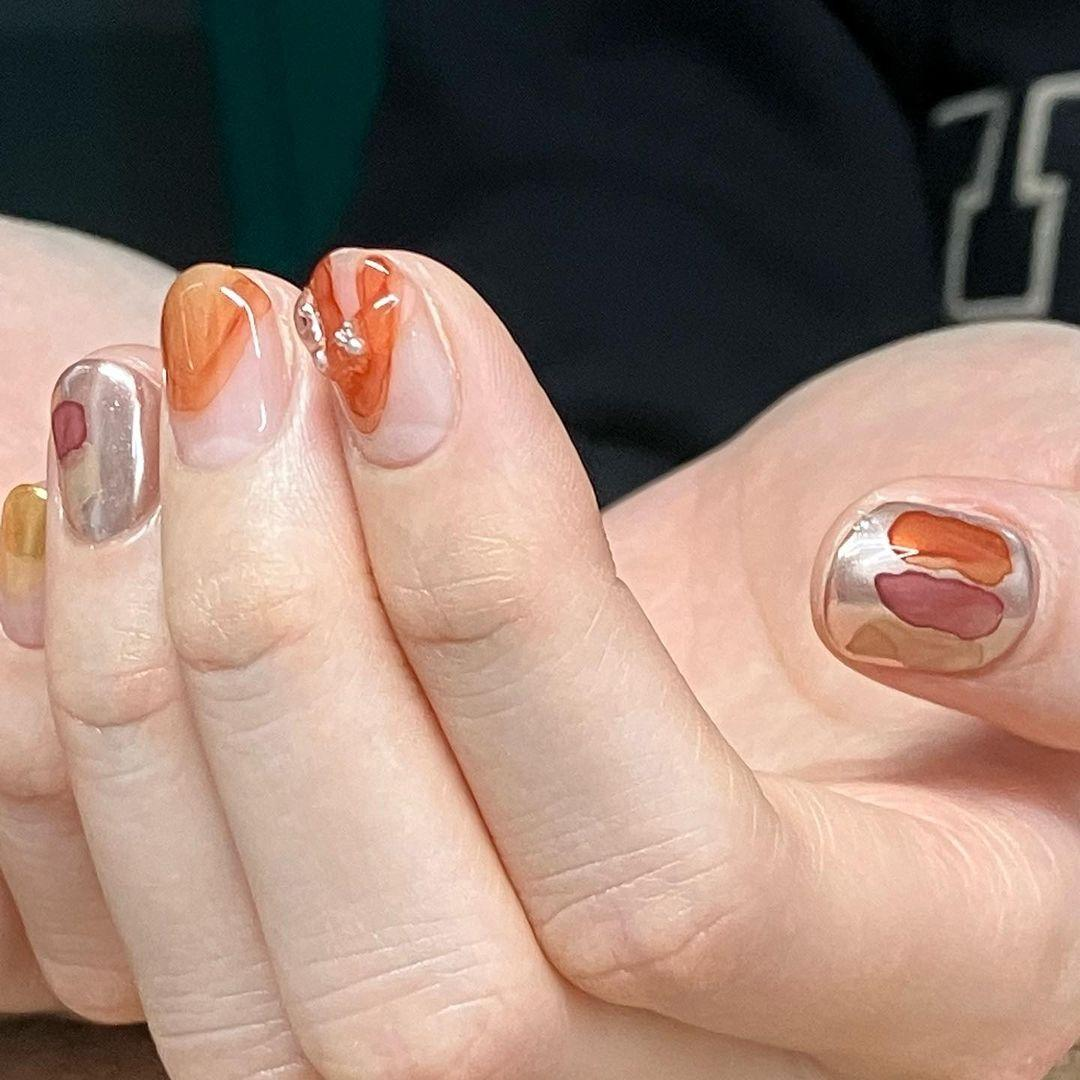nail: (294, 246, 460, 467), (159, 260, 290, 467), (48, 343, 164, 546), (0, 481, 48, 647)
